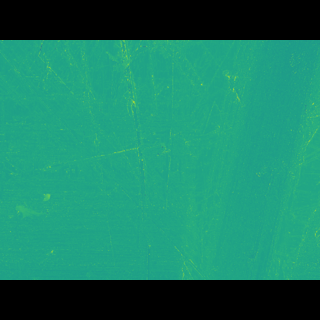Loch: (0, 70, 320, 178), (174, 70, 320, 251)
